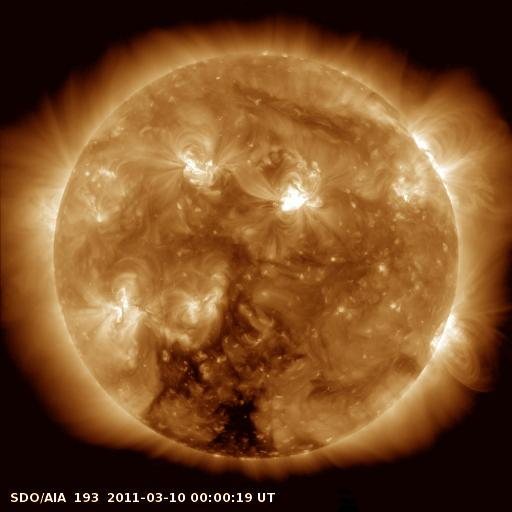coronal_hole: (150, 296, 301, 462)
